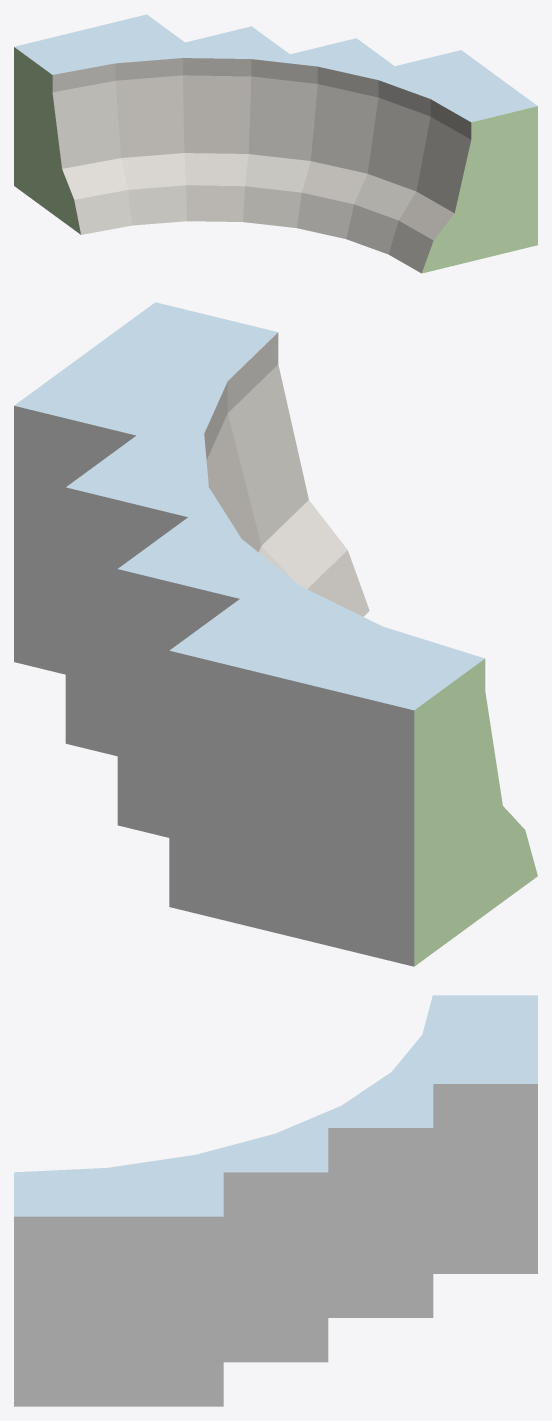
File: Wall_Curve_Inner_5x5_Base.fbx
3 views of the same model, one above another, from view 1: azimuth 30°, elevation 25°; view 2: azimuth 150°, elevation 25°; view 3: azimuth 270°, elevation 25° (orthographic). The views are drawn at different scales.
Parts seen in each view (by area): view 1: Wall_Curve_Inner_5x5_Base; view 2: Wall_Curve_Inner_5x5_Base; view 3: Wall_Curve_Inner_5x5_Base.
Boxes of the visible parts, left/top/right/bottom form: Wall_Curve_Inner_5x5_Base: left=14, top=14, right=537, bottom=273; Wall_Curve_Inner_5x5_Base: left=14, top=302, right=537, bottom=966; Wall_Curve_Inner_5x5_Base: left=14, top=995, right=537, bottom=1406.
Size of the model in its own units: 500 by 200 by 500.
